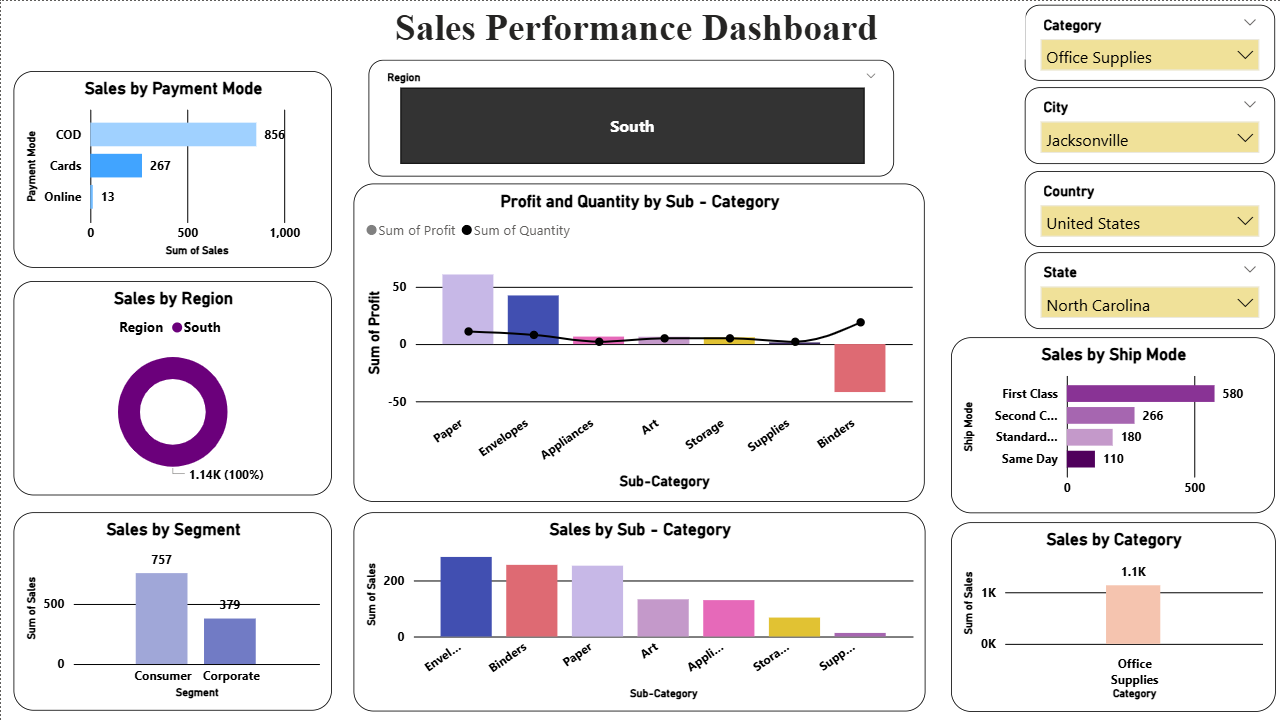

The dashboard page shown, as its layout file describes it:
{"tool":"powerbi","page":{"name":"Page 1","canvas":[1280,720],"ordinal":0},"visuals":[{"type":"barChart","title":"Sales by Payment Mode","fields":{"Y":["Sum(SuperStore_Sales_Dataset.Sales)"],"Category":["SuperStore_Sales_Dataset.Payment Mode"]},"box":[12.9,70,318.6,197.1],"z":0},{"type":"donutChart","title":"Sales by Region","fields":{"Y":["Sum(SuperStore_Sales_Dataset.Sales)"],"Category":["SuperStore_Sales_Dataset.Region"]},"box":[12.9,280,318.6,214.3],"z":1000},{"type":"columnChart","title":"Sales by Segment","fields":{"Category":["SuperStore_Sales_Dataset.Segment"],"Y":["Sum(SuperStore_Sales_Dataset.Sales)"]},"box":[12.9,511.4,318.6,198.6],"z":2000},{"type":"columnChart","title":"Sales by Category","fields":{"Category":["SuperStore_Sales_Dataset.Category"],"Y":["Sum(SuperStore_Sales_Dataset.Sales)"]},"box":[950,521.4,324.3,198.6],"z":3000},{"type":"columnChart","title":"Sales by Sub - Category","fields":{"Category":["SuperStore_Sales_Dataset.Sub-Category"],"Y":["Sum(SuperStore_Sales_Dataset.Sales)"]},"box":[352.9,511.4,571.4,208.6],"z":4000},{"type":"barChart","title":"Sales by Ship Mode","fields":{"Y":["Sum(SuperStore_Sales_Dataset.Sales)"],"Category":["SuperStore_Sales_Dataset.Ship Mode"]},"box":[950,335.7,324.3,175.7],"z":5000},{"type":"lineClusteredColumnComboChart","title":"Profit and Quantity by Sub - Category","fields":{"Category":["SuperStore_Sales_Dataset.Sub-Category"],"Y":["Sum(SuperStore_Sales_Dataset.Profit)"],"Y2":["Sum(SuperStore_Sales_Dataset.Quantity)"]},"box":[352.9,182.9,571.4,318.6],"z":6000},{"type":"slicer","fields":{"Values":["SuperStore_Sales_Dataset.Category"]},"box":[1024.3,4.3,250,75.7],"z":7000},{"type":"slicer","fields":{"Values":["SuperStore_Sales_Dataset.City"]},"box":[1024.3,85.7,250,77.1],"z":8000},{"type":"slicer","fields":{"Values":["SuperStore_Sales_Dataset.Country"]},"box":[1024.3,170,250,75.7],"z":9000},{"type":"slicer","fields":{"Values":["SuperStore_Sales_Dataset.State"]},"box":[1024.3,251.4,250,77.1],"z":10000},{"type":"slicer","fields":{"Values":["SuperStore_Sales_Dataset.Region"]},"box":[367.1,58.6,525.7,117.1],"z":11000},{"type":"textbox","box":[245.7,0,778.6,58.6],"z":12000}]}

Visuals, with their boxes in screenshot pixels (x1, y1, x2, y2), scaled from the page's 1280x720 canvas onto the 1281x721 screenshot:
"Sales by Payment Mode" barChart: [x1=13, y1=70, x2=332, y2=267]
"Sales by Region" donutChart: [x1=13, y1=280, x2=332, y2=495]
"Sales by Segment" columnChart: [x1=13, y1=512, x2=332, y2=711]
"Sales by Category" columnChart: [x1=951, y1=522, x2=1275, y2=720]
"Sales by Sub - Category" columnChart: [x1=353, y1=512, x2=925, y2=720]
"Sales by Ship Mode" barChart: [x1=951, y1=336, x2=1275, y2=512]
"Profit and Quantity by Sub - Category" lineClusteredColumnComboChart: [x1=353, y1=183, x2=925, y2=502]
slicer - SuperStore_Sales_Dataset.Category: [x1=1025, y1=4, x2=1275, y2=80]
slicer - SuperStore_Sales_Dataset.City: [x1=1025, y1=86, x2=1275, y2=163]
slicer - SuperStore_Sales_Dataset.Country: [x1=1025, y1=170, x2=1275, y2=246]
slicer - SuperStore_Sales_Dataset.State: [x1=1025, y1=252, x2=1275, y2=329]
slicer - SuperStore_Sales_Dataset.Region: [x1=367, y1=59, x2=893, y2=176]
textbox: [x1=246, y1=0, x2=1025, y2=59]
